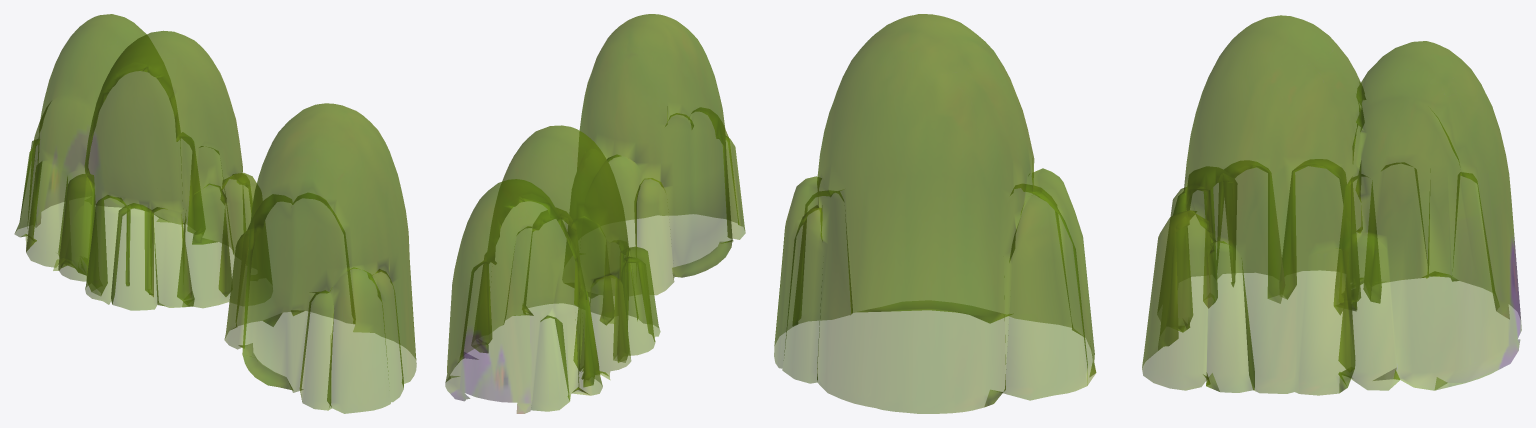
Rendered from Mountains.fbx.
The picture shows the model from 3 angles, left to right: view 1: azimuth 30°, elevation 25°; view 2: azimuth 150°, elevation 25°; view 3: azimuth 270°, elevation 25°; orthographic projection. The views are drawn at different scales.
Parts seen in each view (by area): view 1: LowPoly.002; view 2: LowPoly.002; view 3: LowPoly.002.
Part boxes in pixels (bbox=[...]): LowPoly.002: bbox=[14, 14, 416, 413]; LowPoly.002: bbox=[445, 14, 745, 413]; LowPoly.002: bbox=[774, 14, 1521, 413].
Size of the model in its own units: 382 by 495 by 945.
